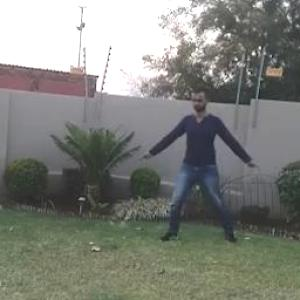land: (148, 90, 261, 240)
